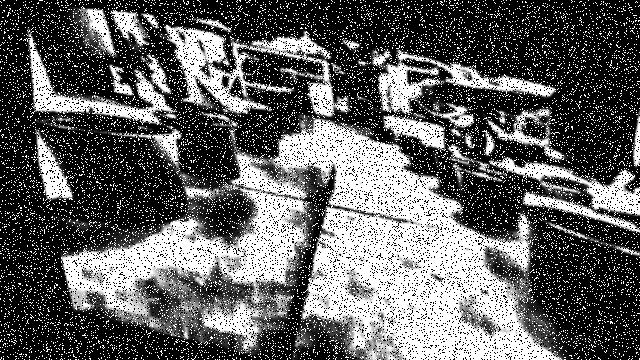pot: (33, 108, 185, 222), (522, 203, 640, 339), (150, 108, 237, 177), (453, 163, 527, 228), (432, 151, 481, 194), (227, 110, 276, 153), (409, 141, 446, 173)
